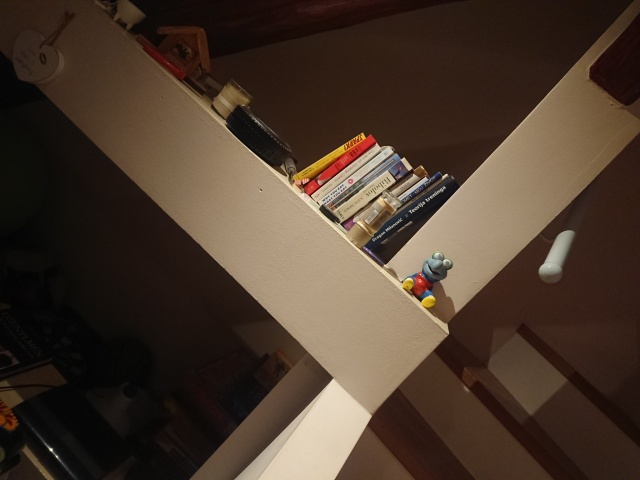Kotanyi Garlic Granules 70g: (344, 188, 404, 252)
